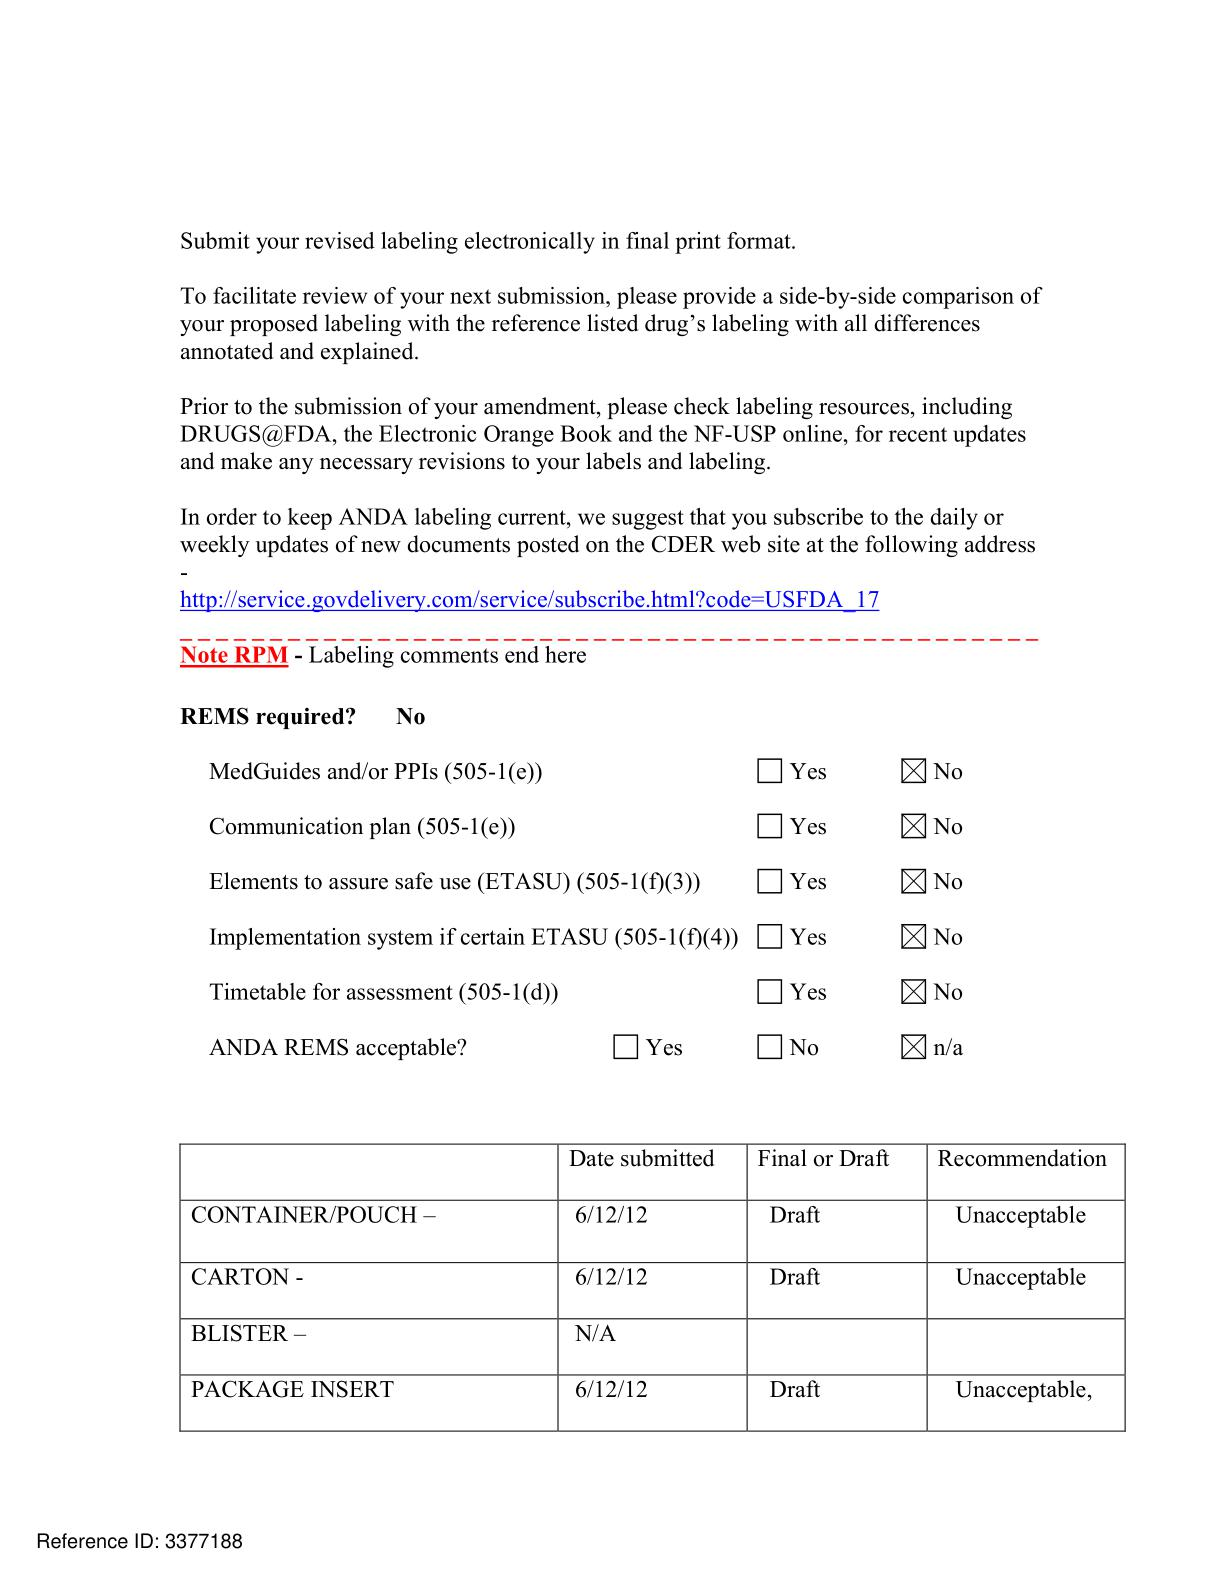full_lined: (179, 1143, 1126, 1432)
nolines: (206, 753, 969, 1063)
